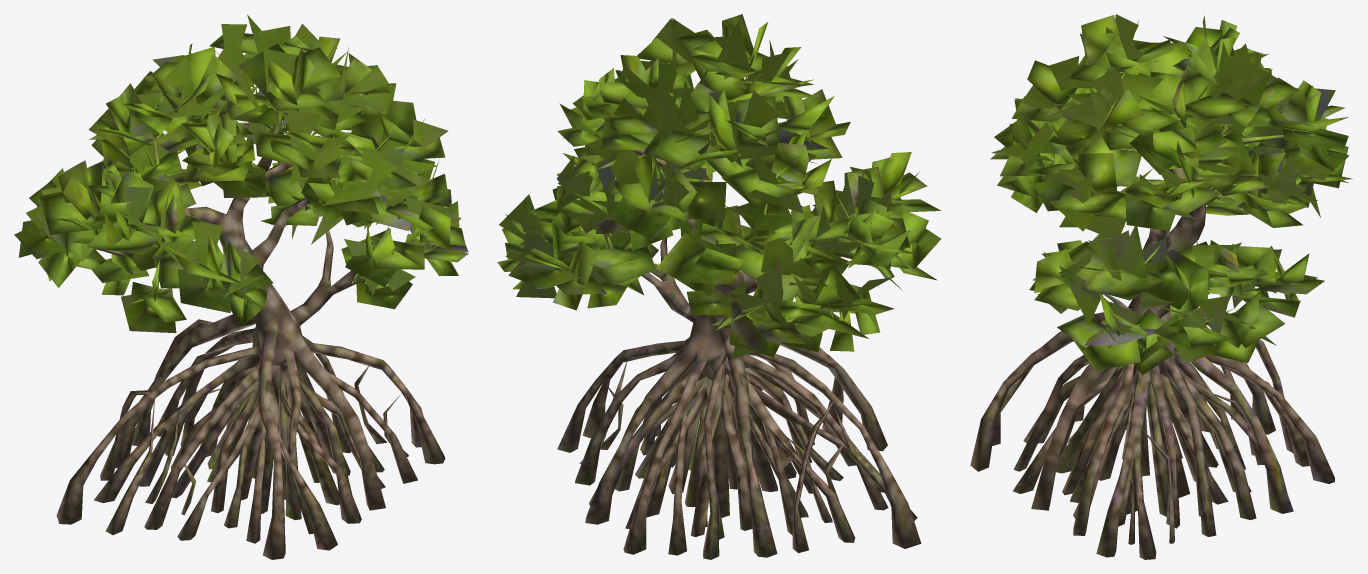
File: Mangrove_Large.glb
3 renders of one model, left to right at view 1: azimuth 30°, elevation 25°; view 2: azimuth 150°, elevation 25°; view 3: azimuth 270°, elevation 25°, orthographic. The views are drawn at different scales.
Bounding box in the file's own units: 0.9551 × 1 × 0.7636.
Materials: 1 (1 with a texture image).
